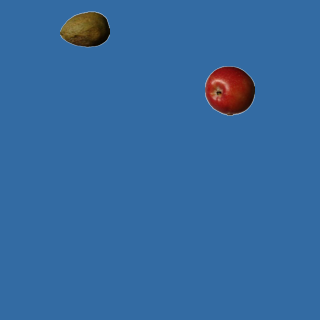Apple Braeburn: (204, 65, 254, 115)
Papaya: (59, 4, 109, 54)
